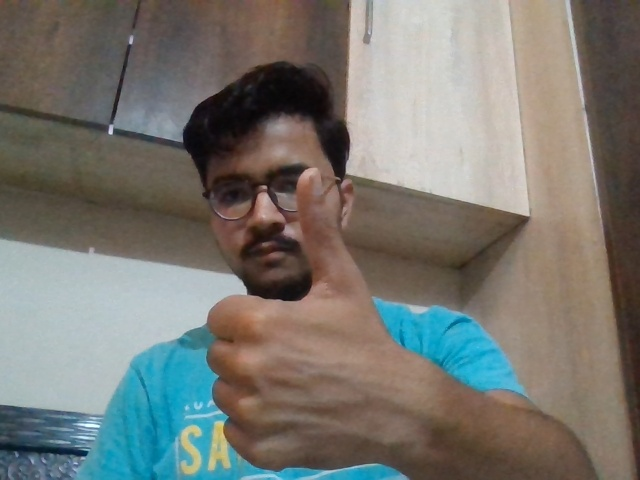yes: (196, 170, 408, 471)
